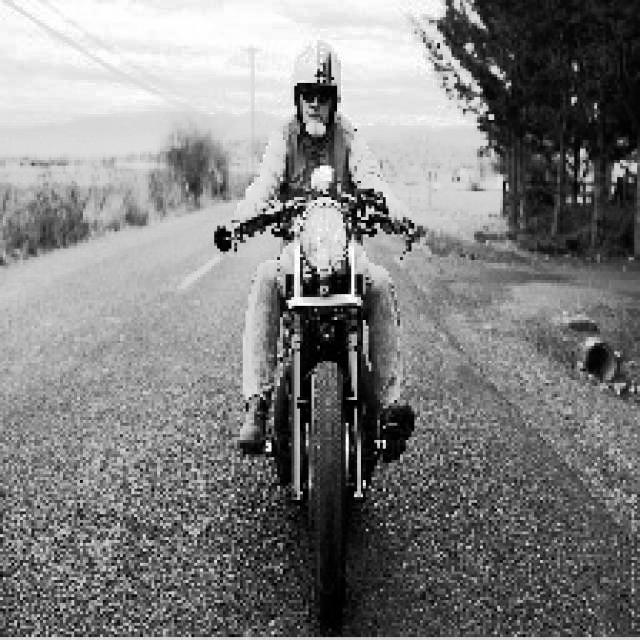Bike: (266, 177, 383, 547)
